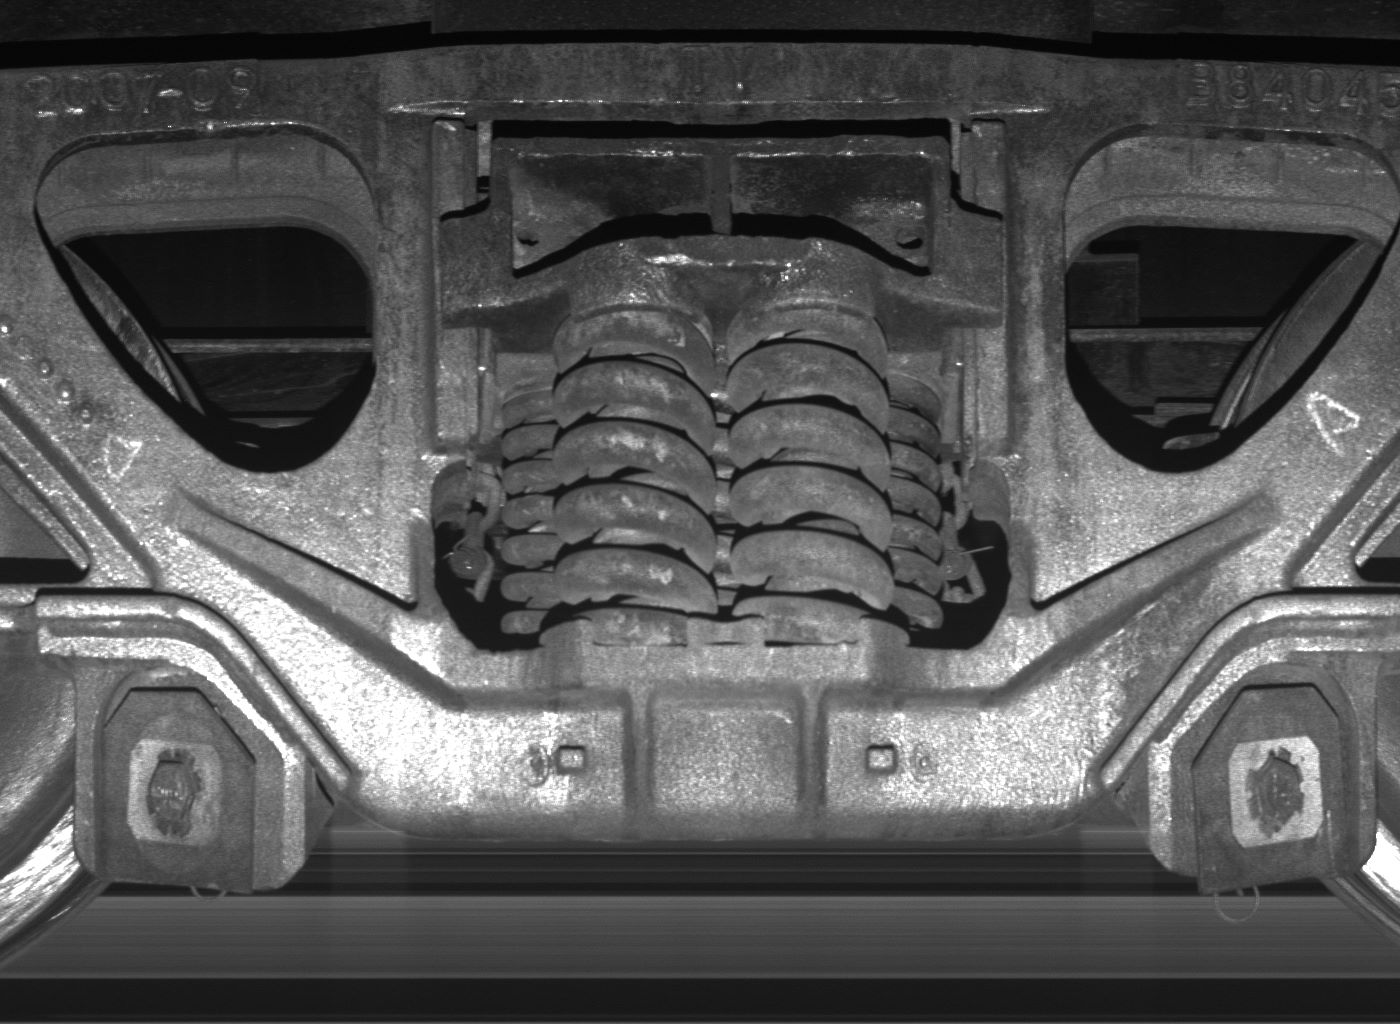Locking plate: (1147, 663, 1375, 899)
normal: (75, 666, 307, 895)
